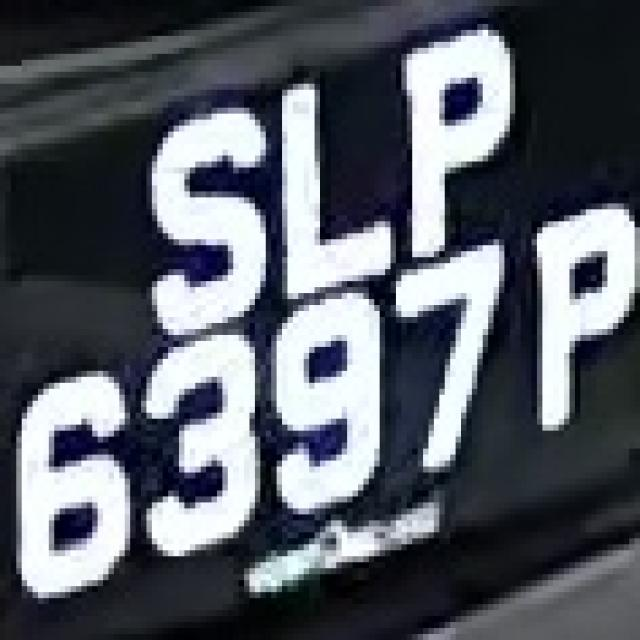3: (130, 311, 271, 568)
6: (11, 341, 141, 622)
7: (374, 257, 499, 508)
9: (255, 275, 396, 532)
L: (272, 54, 402, 311)
P: (390, 18, 520, 257), (515, 210, 635, 454)
S: (130, 96, 260, 329)
